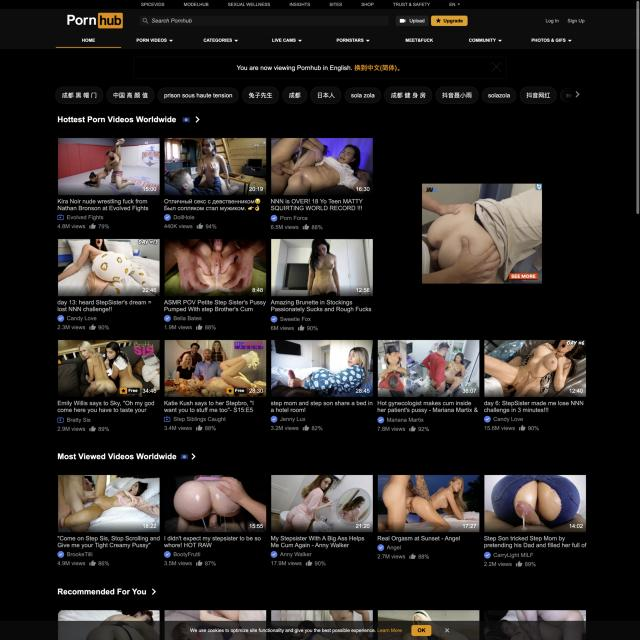logo: (59, 6, 124, 34)
navigation: (56, 88, 584, 104), (56, 36, 578, 50), (138, 0, 465, 8)
